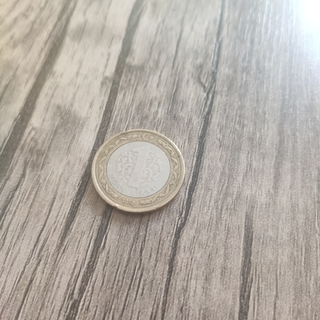1TL: (89, 127, 186, 215)
